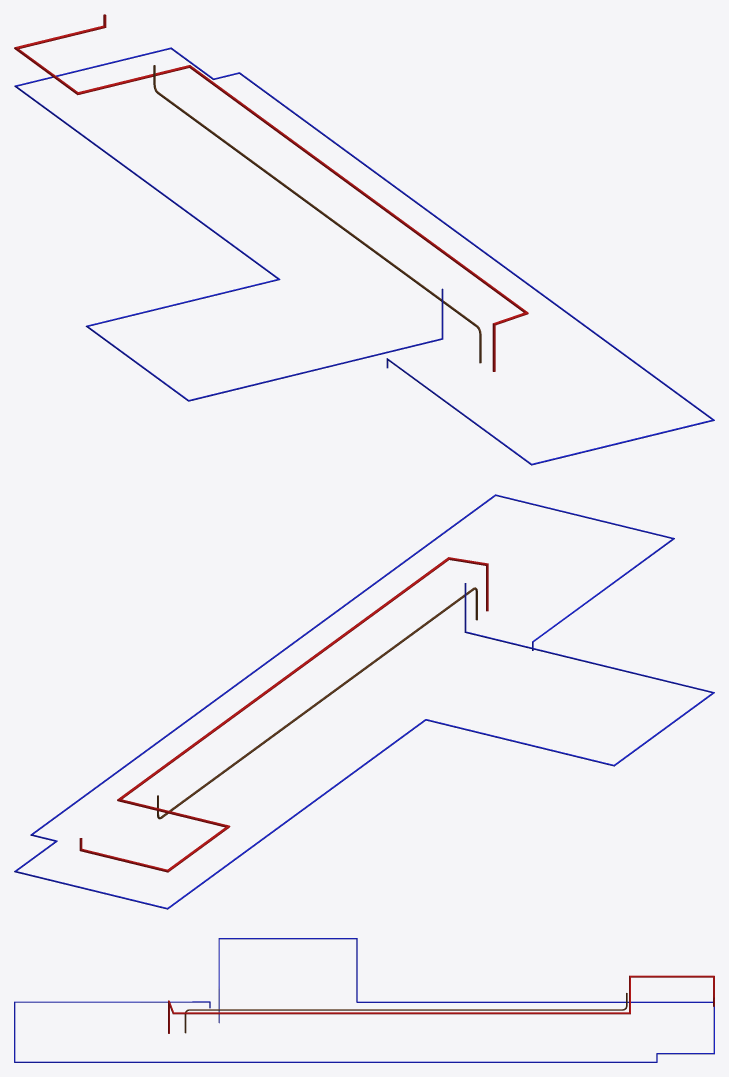
The model's file is pipe_1.dae.
3 renders of one model, top to bottom at view 1: azimuth 30°, elevation 25°; view 2: azimuth 150°, elevation 25°; view 3: azimuth 270°, elevation 25°, orthographic. The views are drawn at different scales.
Parts seen in each view (by area): view 1: __pipe_2, __pipe_3, __pipe_1; view 2: __pipe_2, __pipe_3, __pipe_1; view 3: __pipe_2, __pipe_3, __pipe_1.
Boxes of the visible parts, <box> form: __pipe_2: <box>14,47,714,465</box>; __pipe_3: <box>14,14,528,371</box>; __pipe_1: <box>153,65,481,363</box>; __pipe_2: <box>14,494,714,909</box>; __pipe_3: <box>79,557,488,872</box>; __pipe_1: <box>157,587,477,819</box>; __pipe_2: <box>14,938,714,1062</box>; __pipe_3: <box>168,975,714,1033</box>; __pipe_1: <box>184,993,627,1033</box>.
Bounding box in the file's own units: 36.51 × 87.15 × 5.47.
